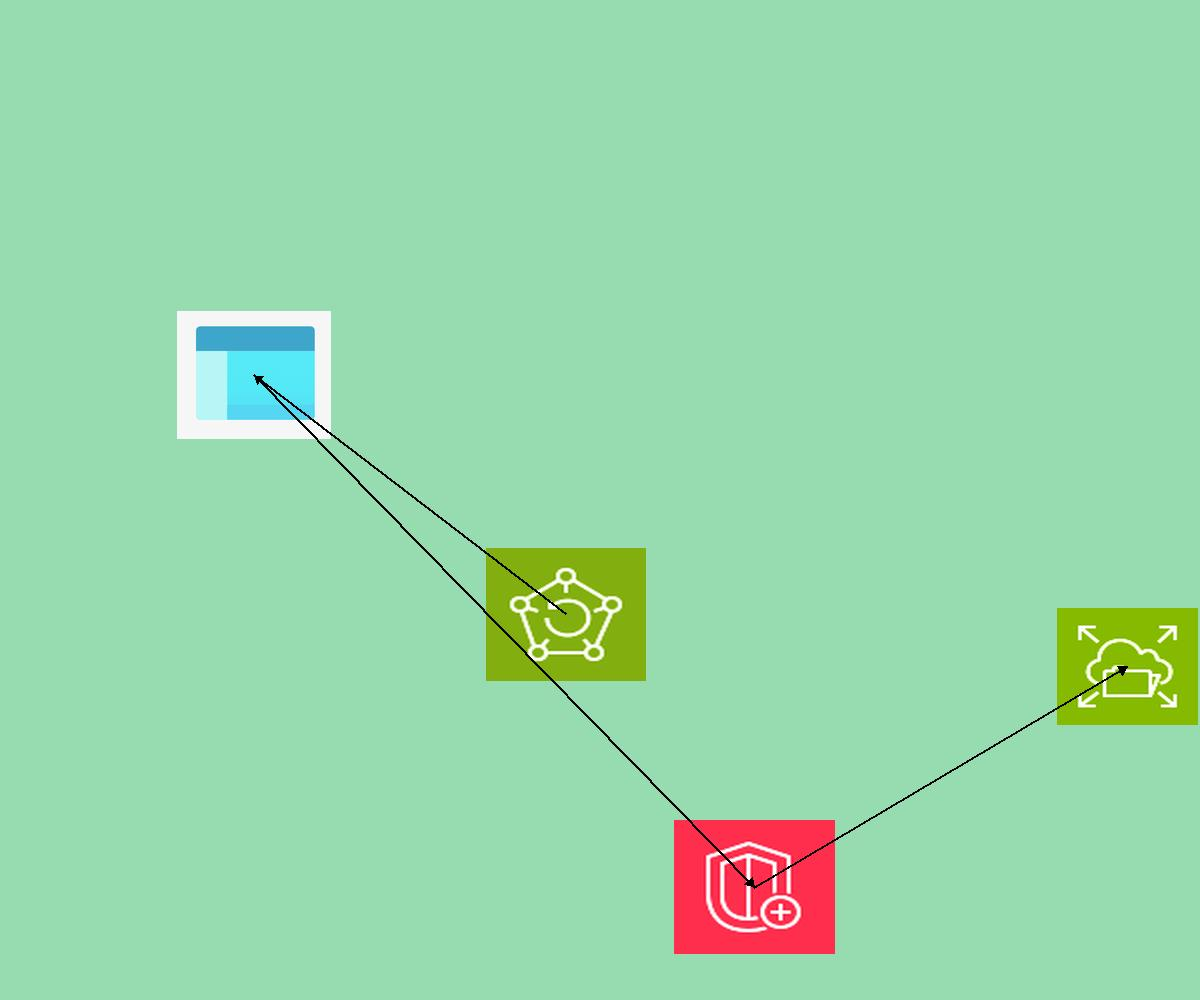AWS-Backup: (486, 548, 646, 681)
AWS-EFS: (1057, 608, 1198, 725)
AWS-Shield: (674, 820, 835, 954)
Azure_management-portal: (177, 311, 331, 439)
